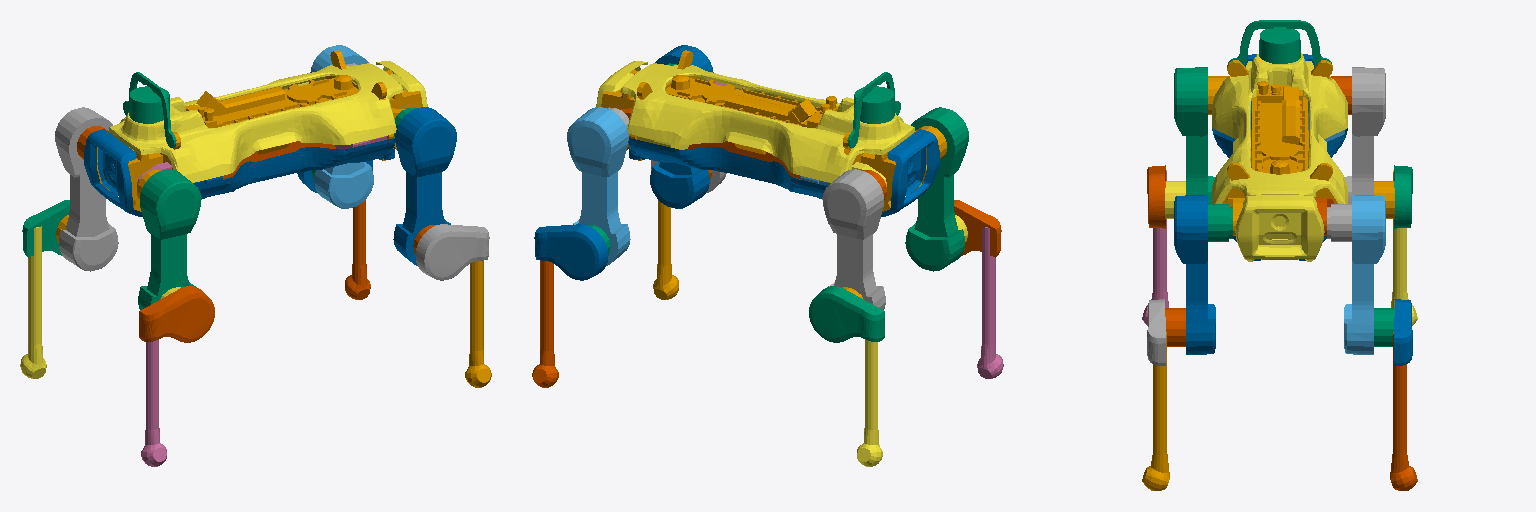
--- Render facts (derived) ---
3 views of the same robot in one strip: view 1: azimuth 30°, elevation 25°; view 2: azimuth 150°, elevation 25°; view 3: azimuth 270°, elevation 25° (orthographic).
Model anymal with 87 links and 86 joints (12 revolute, 74 fixed), rooted at base, posed every joint at zero.
Links seen in each view (by area): view 1: top_shell, base, RF_thigh_fixed, RH_thigh_fixed, LH_thigh_fixed, bottom_shell, RH_shank_fixed, RF_shank_fixed, face_shell_rear, LF_thigh_fixed, LH_FOOT, RF_FOOT (+6 smaller); view 2: top_shell, LF_thigh_fixed, base, LH_thigh_fixed, RH_thigh_fixed, bottom_shell, LH_shank_fixed, LF_shank_fixed, face_shell_rear, RF_thigh_fixed, RH_FOOT, LF_FOOT (+6 smaller); view 3: top_shell, base, face_shell_front, LF_thigh_fixed, RF_thigh_fixed, LH_thigh_fixed, RH_thigh_fixed, lidar, LF_FOOT, RF_FOOT, LF_shank_fixed, RF_shank_fixed (+9 smaller).
Link boxes in pixels (box(x1,y1,x2,y2)): top_shell: box(108, 63, 403, 182); base: box(97, 50, 422, 211); RF_thigh_fixed: box(393, 107, 456, 265); RH_thigh_fixed: box(138, 169, 201, 309); LH_thigh_fixed: box(55, 107, 118, 271); bottom_shell: box(196, 138, 395, 198); RH_shank_fixed: box(139, 286, 214, 342); RF_shank_fixed: box(415, 224, 489, 280); face_shell_rear: box(84, 129, 142, 216); LF_thigh_fixed: box(310, 45, 373, 208); LH_FOOT: box(20, 226, 46, 378); RF_FOOT: box(465, 260, 491, 387); top_shell: box(620, 63, 915, 182); LF_thigh_fixed: box(567, 107, 630, 265); base: box(601, 50, 926, 211); LH_thigh_fixed: box(822, 169, 885, 309); RH_thigh_fixed: box(905, 107, 968, 271); bottom_shell: box(628, 138, 827, 198); LH_shank_fixed: box(809, 286, 884, 342); LF_shank_fixed: box(534, 224, 608, 280); face_shell_rear: box(881, 129, 939, 216); RF_thigh_fixed: box(650, 45, 713, 208); RH_FOOT: box(977, 226, 1003, 378); LF_FOOT: box(532, 260, 558, 387); top_shell: box(1212, 53, 1347, 203); base: box(1222, 60, 1337, 203); face_shell_front: box(1235, 195, 1324, 261); LF_thigh_fixed: box(1344, 195, 1385, 354); RF_thigh_fixed: box(1174, 195, 1215, 354); LH_thigh_fixed: box(1345, 67, 1385, 203); RH_thigh_fixed: box(1174, 67, 1214, 203); lidar: box(1228, 20, 1331, 65); LF_FOOT: box(1390, 332, 1417, 490); RF_FOOT: box(1142, 332, 1169, 490); LF_shank_fixed: box(1394, 299, 1412, 365); RF_shank_fixed: box(1147, 299, 1165, 365).
Bounding box of the posed robot: 1.01 × 0.6804 × 0.9131 m (x, y, z).
37 mesh visuals loaded from 14 distinct referenced files (14 Collada DAE).

robot.urdf — anymal:
<?xml version="1.0" encoding="utf-8"?>
<!-- =================================================================================== -->
<!--   Copyright 2023 ANYbotics, https://www.anybotics.com                               -->
<!-- =================================================================================== -->
<!-- This file contains the description of the ANYmal robot. -->
<robot name="anymal">
  <link name="base">
    <visual>
      <origin rpy="0 0 0" xyz="0 0 0"/>
      <geometry>
        <mesh filename="../meshes/base.dae" scale="1.0 1.0 1.0"/>
      </geometry>
    </visual>
    <collision>
      <origin rpy="0 0 0" xyz="0 0 0.016"/>
      <geometry>
        <box size="0.894 0.1615 0.256"/>
      </geometry>
    </collision>
    <collision>
      <origin rpy="0 1.5707963267948966 0" xyz="0.23529999999999995 0.08075 0"/>
      <geometry>
        <cylinder length="0.1482" radius="0.089"/>
      </geometry>
    </collision>
    <collision>
      <origin rpy="0 1.5707963267948966 0" xyz="0.23529999999999995 -0.08075 0"/>
      <geometry>
        <cylinder length="0.1482" radius="0.089"/>
      </geometry>
    </collision>
    <collision>
      <origin rpy="0 1.5707963267948966 0" xyz="-0.23529999999999995 0.08075 0"/>
      <geometry>
        <cylinder length="0.1482" radius="0.089"/>
      </geometry>
    </collision>
    <collision>
      <origin rpy="0 1.5707963267948966 0" xyz="-0.23529999999999995 -0.08075 0"/>
      <geometry>
        <cylinder length="0.1482" radius="0.089"/>
      </geometry>
    </collision>
  </link>
  <joint name="base_to_base_inertia" type="fixed">
    <parent link="base"/>
    <child link="base_inertia"/>
    <origin rpy="0 0 0" xyz="0 0 0"/>
  </joint>
  <link name="base_inertia">
    <inertial>
      <origin rpy="0 0 0" xyz="-0.02148 0.00173 -0.04417"/>
      <mass value="8.27629"/>
      <inertia ixx="0.06185585085" ixy="0.00052357046" ixz="-0.02204886469" iyy="0.46467853407" iyz="0.00058724812" izz="0.47162119244"/>
    </inertial>
  </link>
  <joint name="base_to_body_top" type="fixed">
    <parent link="base"/>
    <child link="body_top"/>
    <origin rpy="0 0 0" xyz="0 0 0.144"/>
  </joint>
  <link name="body_top"/>
  <joint name="base_top_shell" type="fixed">
    <parent link="base"/>
    <child link="top_shell"/>
    <origin rpy="0 0 0" xyz="0 0 0"/>
  </joint>
  <link name="top_shell">
    <visual>
      <origin rpy="0 0 0" xyz="0 0 0"/>
      <geometry>
        <mesh filename="../meshes/top_shell.dae" scale="1.0 1.0 1.0"/>
      </geometry>
    </visual>
    <inertial>
      <origin rpy="0 0 0" xyz="-0.0226 -0.00027 0.07263"/>
      <mass value="0.32381"/>
      <inertia ixx="0.00391191516" ixy="-1.078994e-05" ixz="-0.00048832706" iyy="0.01761096758" iyz="4.45768e-06" izz="0.02086102766"/>
    </inertial>
  </link>
  <joint name="base_bottom_shell" type="fixed">
    <parent link="base"/>
    <child link="bottom_shell"/>
    <origin rpy="0 0 0" xyz="0 0 0"/>
  </joint>
  <link name="bottom_shell">
    <visual>
      <origin rpy="0 0 0" xyz="0 0 0"/>
      <geometry>
        <mesh filename="../meshes/bottom_shell.dae" scale="1.0 1.0 1.0"/>
      </geometry>
    </visual>
    <inertial>
      <origin rpy="0 0 0" xyz="9e-05 0.0 -0.0705"/>
      <mass value="0.73783"/>
      <inertia ixx="0.00724251946" ixy="8.94306e-06" ixz="7.96806e-05" iyy="0.03457730959" iyz="4.87e-09" izz="0.04075819312"/>
    </inertial>
  </link>
  <joint name="base_face_front" type="fixed">
    <parent link="base"/>
    <child link="face_front"/>
    <origin rpy="0 0 -0.0" xyz="0.4087 0 0.0205"/>
  </joint>
  <link name="face_front">
    <inertial>
      <origin rpy="0 0 0" xyz="-0.0362 0.00223 -0.02808"/>
      <mass value="0.48634"/>
      <inertia ixx="0.00077413444" ixy="1.55433e-06" ixz="6.243539e-05" iyy="0.00076586537" iyz="4.61106e-06" izz="0.00055588292"/>
    </inertial>
  </link>
  <joint name="face_front_to_depth_camera_front_lower_camera" type="fixed">
    <parent link="face_front"/>
    <child link="depth_camera_front_lower_camera"/>
    <origin rpy="0.0 1.0471975511965976 0" xyz="-0.04028 -0.025 -0.08051"/>
  </joint>
  <link name="depth_camera_front_lower_camera">
    <inertial>
      <origin rpy="0 0 0" xyz="-0.00362 -0.01787 -0.00011"/>
      <mass value="0.06355"/>
      <inertia ixx="6.841545e-05" ixy="1.46667e-06" ixz="4.115e-08" iyy="5.2817e-06" iyz="8.039e-08" izz="6.669787e-05"/>
    </inertial>
  </link>
  <joint name="depth_camera_front_lower_camera_to_camera_parent" type="fixed">
    <parent link="depth_camera_front_lower_camera"/>
    <child link="depth_camera_front_lower_camera_parent"/>
    <origin rpy="3.141592653589793 0.0 0.0" xyz="0.0 0.0 0.0"/>
  </joint>
  <link name="depth_camera_front_lower_camera_parent"/>
  <joint name="depth_camera_front_lower_camera_parent_to_depth_frame" type="fixed">
    <parent link="depth_camera_front_lower_camera_parent"/>
    <child link="depth_camera_front_lower_depth_frame"/>
    <origin rpy="0.0 0.0 0.0" xyz="0.0 0.0 0.0"/>
  </joint>
  <link name="depth_camera_front_lower_depth_frame"/>
  <joint name="depth_camera_front_lower_camera_depth_to_depth_optical_frame" type="fixed">
    <parent link="depth_camera_front_lower_depth_frame"/>
    <child link="depth_camera_front_lower_depth_optical_frame"/>
    <origin rpy="-1.5707963267948966 0.0 -1.5707963267948966" xyz="0.0 0.0 0.0"/>
  </joint>
  <link name="depth_camera_front_lower_depth_optical_frame"/>
  <joint name="face_front_to_depth_camera_front_upper_camera" type="fixed">
    <parent link="face_front"/>
    <child link="depth_camera_front_upper_camera"/>
    <origin rpy="0.0 0.2617993877991494 0" xyz="-0.00993 -0.025 -0.04096"/>
  </joint>
  <link name="depth_camera_front_upper_camera">
    <inertial>
      <origin rpy="0 0 0" xyz="-0.00362 -0.01787 -0.00011"/>
      <mass value="0.06355"/>
      <inertia ixx="6.841545e-05" ixy="1.46667e-06" ixz="4.115e-08" iyy="5.2817e-06" iyz="8.039e-08" izz="6.669787e-05"/>
    </inertial>
  </link>
  <joint name="depth_camera_front_upper_camera_to_camera_parent" type="fixed">
    <parent link="depth_camera_front_upper_camera"/>
    <child link="depth_camera_front_upper_camera_parent"/>
    <origin rpy="3.141592653589793 0.0 0.0" xyz="0.0 0.0 0.0"/>
  </joint>
  <link name="depth_camera_front_upper_camera_parent"/>
  <joint name="depth_camera_front_upper_camera_parent_to_depth_frame" type="fixed">
    <parent link="depth_camera_front_upper_camera_parent"/>
    <child link="depth_camera_front_upper_depth_frame"/>
    <origin rpy="0.0 0.0 0.0" xyz="0.0 0.0 0.0"/>
  </joint>
  <link name="depth_camera_front_upper_depth_frame"/>
  <joint name="depth_camera_front_upper_camera_depth_to_depth_optical_frame" type="fixed">
    <parent link="depth_camera_front_upper_depth_frame"/>
    <child link="depth_camera_front_upper_depth_optical_frame"/>
    <origin rpy="-1.5707963267948966 0.0 -1.5707963267948966" xyz="0.0 0.0 0.0"/>
  </joint>
  <link name="depth_camera_front_upper_depth_optical_frame"/>
  <joint name="face_front_to_wide_angle_camera_front_camera" type="fixed">
    <parent link="face_front"/>
    <child link="wide_angle_camera_front_camera"/>
    <origin rpy="0 0 0" xyz="0.0 0.0 0.0"/>
  </joint>
  <link name="wide_angle_camera_front_camera"/>
  <joint name="wide_angle_camera_front_camera_to_camera_parent" type="fixed">
    <parent link="wide_angle_camera_front_camera"/>
    <child link="wide_angle_camera_front_camera_parent"/>
    <origin rpy="-1.5707963267948966 0.0 -1.5707963267948966" xyz="-0.00421 0.0 0.0"/>
  </joint>
  <link name="wide_angle_camera_front_camera_parent"/>
  <joint name="base_face_rear" type="fixed">
    <parent link="base"/>
    <child link="face_rear"/>
    <origin rpy="0 0 3.141592653589793" xyz="-0.4087 0 0.0205"/>
  </joint>
  <link name="face_rear">
    <inertial>
      <origin rpy="0 0 0" xyz="-0.0362 0.00223 -0.02808"/>
      <mass value="0.48634"/>
      <inertia ixx="0.00077413444" ixy="1.55433e-06" ixz="6.243539e-05" iyy="0.00076586537" iyz="4.61106e-06" izz="0.00055588292"/>
    </inertial>
  </link>
  <joint name="face_rear_to_depth_camera_rear_lower_camera" type="fixed">
    <parent link="face_rear"/>
    <child link="depth_camera_rear_lower_camera"/>
    <origin rpy="0.0 1.0471975511965976 0" xyz="-0.04028 -0.025 -0.08051"/>
  </joint>
  <link name="depth_camera_rear_lower_camera">
    <inertial>
      <origin rpy="0 0 0" xyz="-0.00362 -0.01787 -0.00011"/>
      <mass value="0.06355"/>
      <inertia ixx="6.841545e-05" ixy="1.46667e-06" ixz="4.115e-08" iyy="5.2817e-06" iyz="8.039e-08" izz="6.669787e-05"/>
    </inertial>
  </link>
  <joint name="depth_camera_rear_lower_camera_to_camera_parent" type="fixed">
    <parent link="depth_camera_rear_lower_camera"/>
    <child link="depth_camera_rear_lower_camera_parent"/>
    <origin rpy="3.141592653589793 0.0 0.0" xyz="0.0 0.0 0.0"/>
  </joint>
  <link name="depth_camera_rear_lower_camera_parent"/>
  <joint name="depth_camera_rear_lower_camera_parent_to_depth_frame" type="fixed">
    <parent link="depth_camera_rear_lower_camera_parent"/>
    <child link="depth_camera_rear_lower_depth_frame"/>
    <origin rpy="0.0 0.0 0.0" xyz="0.0 0.0 0.0"/>
  </joint>
  <link name="depth_camera_rear_lower_depth_frame"/>
  <joint name="depth_camera_rear_lower_camera_depth_to_depth_optical_frame" type="fixed">
    <parent link="depth_camera_rear_lower_depth_frame"/>
    <child link="depth_camera_rear_lower_depth_optical_frame"/>
    <origin rpy="-1.5707963267948966 0.0 -1.5707963267948966" xyz="0.0 0.0 0.0"/>
  </joint>
  <link name="depth_camera_rear_lower_depth_optical_frame"/>
  <joint name="face_rear_to_depth_camera_rear_upper_camera" type="fixed">
    <parent link="face_rear"/>
    <child link="depth_camera_rear_upper_camera"/>
    <origin rpy="0.0 0.2617993877991494 0" xyz="-0.00993 -0.025 -0.04096"/>
  </joint>
  <link name="depth_camera_rear_upper_camera">
    <inertial>
      <origin rpy="0 0 0" xyz="-0.00362 -0.01787 -0.00011"/>
      <mass value="0.06355"/>
      <inertia ixx="6.841545e-05" ixy="1.46667e-06" ixz="4.115e-08" iyy="5.2817e-06" iyz="8.039e-08" izz="6.669787e-05"/>
    </inertial>
  </link>
  <joint name="depth_camera_rear_upper_camera_to_camera_parent" type="fixed">
    <parent link="depth_camera_rear_upper_camera"/>
    <child link="depth_camera_rear_upper_camera_parent"/>
    <origin rpy="3.141592653589793 0.0 0.0" xyz="0.0 0.0 0.0"/>
  </joint>
  <link name="depth_camera_rear_upper_camera_parent"/>
  <joint name="depth_camera_rear_upper_camera_parent_to_depth_frame" type="fixed">
    <parent link="depth_camera_rear_upper_camera_parent"/>
    <child link="depth_camera_rear_upper_depth_frame"/>
    <origin rpy="0.0 0.0 0.0" xyz="0.0 0.0 0.0"/>
  </joint>
  <link name="depth_camera_rear_upper_depth_frame"/>
  <joint name="depth_camera_rear_upper_camera_depth_to_depth_optical_frame" type="fixed">
    <parent link="depth_camera_rear_upper_depth_frame"/>
    <child link="depth_camera_rear_upper_depth_optical_frame"/>
    <origin rpy="-1.5707963267948966 0.0 -1.5707963267948966" xyz="0.0 0.0 0.0"/>
  </joint>
  <link name="depth_camera_rear_upper_depth_optical_frame"/>  <joint name="face_rear_to_wide_angle_camera_rear_camera" type="fixed">
    <parent link="face_rear"/>
    <child link="wide_angle_camera_rear_camera"/>
    <origin rpy="0 0 0" xyz="0.0 0.0 0.0"/>
  </joint>
  <link name="wide_angle_camera_rear_camera"/>
  <joint name="wide_angle_camera_rear_camera_to_camera_parent" type="fixed">
    <parent link="wide_angle_camera_rear_camera"/>
    <child link="wide_angle_camera_rear_camera_parent"/>
    <origin rpy="-1.5707963267948966 0.0 -1.5707963267948966" xyz="-0.00421 0.0 0.0"/>
  </joint>
  <link name="wide_angle_camera_rear_camera_parent"/>
  <joint name="base_face_shell_front" type="fixed">
    <parent link="face_front"/>
    <child link="face_shell_front"/>
    <origin rpy="0 0 0" xyz="0 0 0"/>
  </joint>
  <link name="face_shell_front">
    <visual>
      <origin rpy="0 0 0" xyz="0 0 0"/>
      <geometry>
        <mesh filename="../meshes/face_shell.dae" scale="1.0 1.0 1.0"/>
      </geometry>
    </visual>
    <inertial>
      <origin rpy="0 0 0" xyz="0.01446 4e-05 -0.01698"/>
      <mass value="0.1369"/>
      <inertia ixx="0.00102140404" ixy="9.54e-09" ixz="4.343039e-05" iyy="0.00051576362" iyz="2.7592e-07" izz="0.00057208503"/>
    </inertial>
  </link>
  <joint name="base_face_shell_rear" type="fixed">
    <parent link="face_rear"/>
    <child link="face_shell_rear"/>
    <origin rpy="0 0 0" xyz="0 0 0"/>
  </joint>
  <link name="face_shell_rear">
    <visual>
      <origin rpy="0 0 0" xyz="0 0 0"/>
      <geometry>
        <mesh filename="../meshes/face_shell.dae" scale="1.0 1.0 1.0"/>
      </geometry>
    </visual>
    <inertial>
      <origin rpy="0 0 0" xyz="0.01446 4e-05 -0.01698"/>
      <mass value="0.1369"/>
      <inertia ixx="0.00102140404" ixy="9.54e-09" ixz="4.343039e-05" iyy="0.00051576362" iyz="2.7592e-07" izz="0.00057208503"/>
    </inertial>
  </link>
  <joint name="base_battery" type="fixed">
    <parent link="base"/>
    <child link="battery"/>
    <origin rpy="0 0 0" xyz="0 0 0"/>
  </joint>
  <link name="battery">
    <visual>
      <origin rpy="0 0 0" xyz="0 0 0"/>
      <geometry>
        <mesh filename="../meshes/battery.dae" scale="1.0 1.0 1.0"/>
      </geometry>
    </visual>
    <inertial>
      <origin rpy="0 0 0" xyz="-0.00067 0.00023 -0.02212"/>
      <mass value="5.51206"/>
      <inertia ixx="0.00745533705" ixy="-0.00016412238" ixz="7.454512e-05" iyy="0.07199300212" iyz="-1.31605e-06" izz="0.07459357231"/>
    </inertial>
  </link>
  <joint name="base_to_docking_socket" type="fixed">
    <parent link="base"/>
    <child link="docking_socket"/>
    <origin rpy="0 0 0" xyz="0.26132 0.0 -0.06205"/>
  </joint>
  <link name="docking_socket">
    <visual>
      <origin rpy="0 0 0" xyz="0 0 0"/>
      <geometry>
        <mesh filename="../meshes/docking_socket.dae" scale="1.0 1.0 1.0"/>
      </geometry>
    </visual>
    <inertial>
      <origin rpy="0 0 0" xyz="0.00606 0.0 0.01903"/>
      <mass value="0.21905"/>
      <inertia ixx="0.00010664534" ixy="5.383e-08" ixz="4.91832e-06" iyy="0.00015585103" iyz="1.7942e-07" izz="0.00021982177"/>
    </inertial>
  </link>
  <joint name="base_hbc_receiver" type="fixed">
    <parent link="base"/>
    <child link="hbc_receiver"/>
    <origin rpy="0 0 0" xyz="-0.04350 0.0 0.14400"/>
  </joint>
  <link name="hbc_receiver">
    <inertial>
      <origin rpy="0 0 0" xyz="-0.00144 -0.00075 -0.01143"/>
      <mass value="0.60727"/>
      <inertia ixx="0.00172041475" ixy="2.466045e-05" ixz="1.95244e-06" iyy="0.00100683572" iyz="3.598867e-05" izz="0.00217149159"/>
    </inertial>
  </link>
  <link name="imu_link"/>
  <joint name="imu_joint" type="fixed">
    <parent link="base"/>
    <child link="imu_link"/>
    <origin rpy="3.141592653589793 0.0 3.141592653589793" xyz="-0.25565 0.00255 0.07672"/>
  </joint>
  <joint name="base_to_depth_camera_left_camera" type="fixed">
    <parent link="base"/>
    <child link="depth_camera_left_camera"/>
    <origin rpy="0.0 0.7330382858376184 1.5707963267948966" xyz="-0.02500 0.09230 0.01230"/>
  </joint>
  <link name="depth_camera_left_camera">
    <inertial>
      <origin rpy="0 0 0" xyz="-0.01352 -0.02667 -0.00198"/>
      <mass value="0.11196"/>
      <inertia ixx="0.00011356938" ixy="3.5285e-06" ixz="4.9332e-07" iyy="2.382311e-05" iyz="3.3737e-07" izz="0.00012178739"/>
    </inertial>
  </link>
  <joint name="depth_camera_left_camera_to_camera_parent" type="fixed">
    <parent link="depth_camera_left_camera"/>
    <child link="depth_camera_left_camera_parent"/>
    <origin rpy="0.0 0.0 0.0" xyz="0.0 0.0 0.0"/>
  </joint>
  <link name="depth_camera_left_camera_parent"/>
  <joint name="depth_camera_left_camera_parent_to_depth_frame" type="fixed">
    <parent link="depth_camera_left_camera_parent"/>
    <child link="depth_camera_left_depth_frame"/>
    <origin rpy="0.0 0.0 0.0" xyz="0.0 0.0 0.0"/>
  </joint>
  <link name="depth_camera_left_depth_frame"/>
  <joint name="depth_camera_left_camera_depth_to_depth_optical_frame" type="fixed">
    <parent link="depth_camera_left_depth_frame"/>
    <child link="depth_camera_left_depth_optical_frame"/>
    <origin rpy="-1.5707963267948966 0.0 -1.5707963267948966" xyz="0.0 0.0 0.0"/>
  </joint>
  <link name="depth_camera_left_depth_optical_frame"/>
  <joint name="base_to_depth_camera_right_camera" type="fixed">
    <parent link="base"/>
    <child link="depth_camera_right_camera"/>
    <origin rpy="0.0 0.7330382858376184 -1.5707963267948966" xyz="0.02500 -0.09230 0.01230"/>
  </joint>
  <link name="depth_camera_right_camera">
    <inertial>
      <origin rpy="0 0 0" xyz="-0.01352 -0.02667 -0.00198"/>
      <mass value="0.11196"/>
      <inertia ixx="0.00011356938" ixy="3.5285e-06" ixz="4.9332e-07" iyy="2.382311e-05" iyz="3.3737e-07" izz="0.00012178739"/>
    </inertial>
  </link>
  <joint name="depth_camera_right_camera_to_camera_parent" type="fixed">
    <parent link="depth_camera_right_camera"/>
    <child link="depth_camera_right_camera_parent"/>
    <origin rpy="0.0 0.0 0.0" xyz="0.0 0.0 0.0"/>
  </joint>
  <link name="depth_camera_right_camera_parent"/>
  <joint name="depth_camera_right_camera_parent_to_depth_frame" type="fixed">
    <parent link="depth_camera_right_camera_parent"/>
    <child link="depth_camera_right_depth_frame"/>
    <origin rpy="0.0 0.0 0.0" xyz="0.0 0.0 0.0"/>
  </joint>
  <link name="depth_camera_right_depth_frame"/>
  <joint name="depth_camera_right_camera_depth_to_depth_optical_frame" type="fixed">
    <parent link="depth_camera_right_depth_frame"/>
    <child link="depth_camera_right_depth_optical_frame"/>
    <origin rpy="-1.5707963267948966 0.0 -1.5707963267948966" xyz="0.0 0.0 0.0"/>
  </joint>
  <link name="depth_camera_right_depth_optical_frame"/>
  <joint name="base_to_lidar_parent" type="fixed">
    <parent link="base"/>
    <child link="lidar_parent"/>
    <origin rpy="0 0 1.5707963267948966" xyz="-0.310 0.0 0.1585"/>
  </joint>
      This accounts for the fact that the Lidar driver rotates the measurements 90 degrees in yaw -->
  <joint name="lidar_parent_to_lidar" type="fixed">
    <parent link="lidar_parent"/>
    <child link="lidar"/>
    <origin rpy="0 0 1.5707963267948966" xyz="0 0 0"/>
  </joint>
  <link name="lidar_parent"/>
  <link name="lidar">
    <visual>
      <origin xyz="0 0 0"/>
      <geometry>
        <mesh filename="../meshes/lidar.dae"/>
      </geometry>
    </visual>
    <visual>
      <origin xyz="0 0 0"/>
      <geometry>
        <mesh filename="../meshes/lidar_guard.dae"/>
      </geometry>
    </visual>
    <collision>
      <origin rpy="0 0 0" xyz="0 0 0"/>
      <geometry>
        <cylinder length="0.1355" radius="0.07"/>
      </geometry>
    </collision>
    <inertial>
      <origin rpy="0.0 0.0 0.0" xyz="-0.00371 -0.00326 -0.00485"/>
      <mass value="0.9017"/>
      <inertia ixx="0.00111563406" ixy="0.00012074344" ixz="0.00011445184" iyy="0.00114682455" iyz="0.00010431906" izz="0.00132807373"/>
    </inertial>
  </link>
  <joint name="base_LF_HAA_drive" type="fixed">
    <parent link="base"/>
    <child link="LF_HAA_drive"/>
    <origin rpy="0 0 0.0" xyz="0.304 0.109 0.0"/>
  </joint>
  <link name="LF_HAA_drive">
    <visual>
      <origin rpy="0 0 0" xyz="0 0 0"/>
      <geometry>
        <mesh filename="../meshes/drive.dae" scale="1.0 1.0 1.0"/>
      </geometry>
    </visual>
    <inertial>
      <origin rpy="0 0 0" xyz="-0.05783 -0.00014 0.00036"/>
      <mass value="2.01511"/>
      <inertia ixx="0.0033251482" ixy="2.567315e-05" ixz="2.599963e-05" iyy="0.00318377804" iyz="9.462185e-05" izz="0.00355095312"/>
    </inertial>
  </link>
  <joint name="LF_HAA" type="revolute">
    <parent link="LF_HAA_drive"/>
    <child link="LF_HIP"/>
    <origin rpy="0 0 0" xyz="0 0 0"/>
    <axis xyz="1 0 0"/>
    <limit command_effort="80.0" current="32.0" effort="80.0" gear_velocity="8.5" lower="-0.7853985" upper="0.6108655" velocity="8.5"/>
    <dynamics damping="0.0" friction="0.0"/>
  </joint>
  <link name="LF_HIP">
    <inertial>
      <origin rpy="0 0 0" xyz="0 0 0"/>
      <mass value="0.001"/>
      <inertia ixx="0.000001" ixy="0.0" ixz="0.0" iyy="0.000001" iyz="0.0" izz="0.000001"/>
    </inertial>
  </link>
  <joint name="LF_HIP_LF_hip_fixed" type="fixed">
    <parent link="LF_HIP"/>
    <child link="LF_hip_fixed"/>
    <origin rpy="0 0 0.0" xyz="0 0 0"/>
  </joint>
  <link name="LF_hip_fixed">
    <visual>
      <origin rpy="0.0 0 0.0" xyz="0 0 0"/>
      <geometry>
        <mesh filename="../meshes/hip.dae" scale="1.0 1.0 1.0"/>
      </geometry>
    </visual>
    <inertial>
      <origin rpy="0 0 0" xyz="0.03505 -0.00125 0.0"/>
      <mass value="0.36386"/>
      <inertia ixx="0.00023646957" ixy="3.45771e-06" ixz="1.268e-08" iyy="0.00055386457" iyz="1.811e-08" izz="0.00043888609"/>
    </inertial>
  </link>
  <joint name="LF_hip_fixed_LF_HFE_output" type="fixed">
    <parent link="LF_hip_fixed"/>
    <child link="LF_HFE_output"/>
    <origin rpy="0 0 -1.5707963267948966" xyz="0.069 0.006 0.0"/>
  </joint>
  <link name="LF_HFE_output">
    <inertial>
      <origin rpy="0 0 0" xyz="0 0 0"/>
      <mass value="0.001"/>
      <inertia ixx="0.000001" ixy="0.0" ixz="0.0" iyy="0.000001" iyz="0.0" izz="0.000001"/>
    </inertial>
  </link>
  <link name="LF_HFE_drive">
    <visual>
      <origin rpy="0 0 0" xyz="0 0 0"/>
      <geometry>
        <mesh filename="../meshes/drive.dae" scale="1.0 1.0 1.0"/>
      </geometry>
    </visual>
    <collision>
      <origin rpy="0 1.5707963267948966 0" xyz="-0.0595 0 0"/>
      <geometry>
        <cylinder length="0.119" radius="0.05375"/>
      </geometry>
    </collision>
    <inertial>
      <origin rpy="0 0 0" xyz="-0.05783 -0.00014 0.00036"/>
      <mass value="2.01511"/>
      <inertia ixx="0.0033251482" ixy="2.567315e-05" ixz="2.599963e-05" iyy="0.00318377804" iyz="9.462185e-05" izz="0.00355095312"/>
    </inertial>
  </link>
  <joint name="LF_HFE" type="revolute">
    <parent link="LF_HFE_output"/>
    <child link="LF_THIGH"/>
    <origin rpy="0 0 0" xyz="0 0 0"/>
    <axis xyz="-1 0 0"/>
    <limit command_effort="80.0" current="32.0" effort="80.0" gear_velocity="8.5" lower="-9.42477796076938" upper="9.42477796076938" velocity="8.5"/>
    <dynamics damping="0.0" friction="0.0"/>
  </joint>
  <link name="LF_THIGH">
    <inertial>
      <origin rpy="0 0 0" xyz="0 0 0"/>
      <mass value="0.001"/>
      <inertia ixx="0.000001" ixy="0.0" ixz="0.0" iyy="0.000001" iyz="0.0" izz="0.000001"/>
    </inertial>
  </link>
  <joint name="LF_THIGH_to_LF_HFE_drive" type="fixed">
    <parent link="LF_THIGH"/>
    <child link="LF_HFE_drive"/>
    <origin rpy="0 0 0" xyz="0 0 0"/>
  </joint>
  <joint name="LF_HFE_drive_LF_thigh_fixed" type="fixed">
    <parent link="LF_HFE_drive"/>
    <child link="LF_thigh_fixed"/>
    <origin rpy="0 0 1.5707963267948966" xyz="0 0 0"/>
  </joint>
  <link name="LF_thigh_fixed">
    <visual>
      <origin rpy="0 0 0.0" xyz="0 0 0"/>
      <geometry>
        <mesh filename="../meshes/thigh.dae" scale="1.0 1.0 1.0"/>
      </geometry>
    </visual>
        <collision>
      <origin rpy="1.5707963267948966 0 0" xyz="0 0.10519500000000001 0"/>
      <geometry>
        <cylinder length="0.08313000000000001" radius="0.07"/>
      </geometry>
    </collision>
    <collision>
      <origin rpy="0 0 0" xyz="0 0.09513 -0.1425"/>
      <geometry>
        <box size="0.093 0.063 0.285"/>
      </geometry>
    </collision>
    <collision>
      <origin rpy="1.5707963267948966 0 0" xyz="0 0.08506500000000002 -0.285"/>
      <geometry>
        <cylinder length="0.08313000000000001" radius="0.07"/>
      </geometry>
    </collision>
    <inertial>
      <origin rpy="0 0 0" xyz="-0.00041 0.09155 -0.13317"/>
      <mass value="1.10098"/>
      <inertia ixx="0.01541669135" ixy="0.00021116021" ixz="0.00031942961" iyy="0.01630081575" iyz="0.00143783119" izz="0.00258410631"/>
    </inertial>
  </link>
  <joint name="LF_thigh_fixed_LF_KFE_drive" type="fixed">
    <parent link="LF_thigh_fixed"/>
    <child link="LF_KFE_drive"/>
    <origin rpy="0 0 1.5707963267948966" xyz="0.0 0.1805 -0.285"/>
  </joint>
  <link name="LF_KFE_drive">
    <visual>
      <origin rpy="0 0 0" xyz="0 0 0"/>
      <geometry>
        <mesh filename="../meshes/drive.dae" scale="1.0 1.0 1.0"/>
      </geometry>
    </visual>
    <collision>
      <origin rpy="0 1.5707963267948966 0" xyz="-0.0595 0 0"/>
      <geometry>
        <cylinder length="0.119" radius="0.05375"/>
      </geometry>
    </collision>
    <inertial>
      <origin rpy="0 0 0" xyz="-0.05783 -0.00014 0.00036"/>
      <mass value="2.01511"/>
      <inertia ixx="0.0033251482" ixy="2.567315e-05" ixz="2.599963e-05" iyy="0.00318377804" iyz="9.462185e-05" izz="0.00355095312"/>
    </inertial>
  </link>
  <joint name="LF_KFE" type="revolute">
    <parent link="LF_KFE_drive"/>
    <child link="LF_SHANK"/>
    <origin rpy="0 0 0" xyz="0 0 0"/>
    <axis xyz="1 0 0"/>
    <limit command_effort="80.0" current="32.0" effort="80.0" gear_velocity="8.5" lower="-9.42477796076938" upper="9.42477796076938" velocity="8.5"/>
    <dynamics damping="0.0" friction="0.0"/>
  </joint>
  <link name="LF_SHANK">
    <inertial>
      <origin rpy="0 0 0" xyz="0 0 0"/>
      <mass value="0.001"/>
      <inertia ixx="0.000001" ixy="0.0" ixz="0.0" iyy="0.000001" iyz="0.0" izz="0.000001"/>
    </inertial>
  </link>
  <joint name="LF_shank_LF_shank_fixed" type="fixed">
    <parent link="LF_SHANK"/>
    <child link="LF_shank_fixed"/>
    <origin rpy="0 0 -1.5707963267948966" xyz="0 0 0"/>
  </joint>
  <link name="LF_shank_fixed">
    <visual>
      <origin rpy="0 0 0.0" xyz="0 0 0"/>
      <geometry>
        <mesh filename="../meshes/shank_l.dae" scale="1.0 1.0 1.0"/>
      </geometry>
    </visual>
        <collision>
      <origin rpy="1.5707963267948966 0 0" xyz="0 0 0"/>
      <geometry>
        <cylinder length="0.05732" radius="0.071"/>
      </geometry>
    </collision>
    <collision>
      <origin rpy="1.5707963267948966 0 0" xyz="0.066415 0 0"/>
      <geometry>
        <box size="0.13283 0.08302 0.05732"/>
      </geometry>
    </collision>
    <inertial>
      <origin rpy="0 0 0" xyz="0.02186 0.00895 0.00042"/>
      <mass value="0.49854"/>
      <inertia ixx="0.00054939614" ixy="2.147115e-05" ixz="1.687902e-05" iyy="0.00166971314" iyz="1.71584e-06" izz="0.00127258622"/>
    </inertial>
  </link>
  <joint name="LF_shank_fixed_LF_FOOT" type="fixed" dont_collapse="true">
    <parent link="LF_shank_fixed"/>
    <child link="LF_FOOT"/>
    <origin rpy="0 0 0" xyz="0.1 0.02225 -0.39246"/>
  </joint>
  <link name="LF_FOOT">
    <visual>
      <origin rpy="0 0 0.0" xyz="0 0 0"/>
      <geometry>
        <mesh filename="../meshes/foot.dae" scale="1.0 1.0 1.0"/>
      </geometry>
    </visual>
        <collision>
      <origin rpy="0 0 0" xyz="0 -0.016891153063699788 0.22824319686592265"/>
      <geometry>
        <cylinder length="0.39572" radius="0.0175"/>
      </geometry>
    </collision>
        <collision>
      <origin xyz="0 -0.008141153063699788 0.03038319686592264"/>
      <geometry>
        <sphere radius="0.031455"/>
      </geometry>
    </collision>
    <inertial>
      <origin rpy="0 0 0" xyz="0.0 -0.01559 0.15004"/>
      <mass value="0.29644"/>
      <inertia ixx="0.00514263169" ixy="1.46e-09" ixz="6.85e-09" iyy="0.0051315957" iyz="0.00016323086" izz="0.00011890148"/>
    </inertial>
  </link>
  <joint name="base_RF_HAA_drive" type="fixed">
    <parent link="base"/>
    <child link="RF_HAA_drive"/>
    <origin rpy="0 0 0.0" xyz="0.304 -0.109 0.0"/>
  </joint>
  <link name="RF_HAA_drive">
    <visual>
      <origin rpy="0 0 0" xyz="0 0 0"/>
      <geometry>
        <mesh filename="../meshes/drive.dae" scale="1.0 1.0 1.0"/>
      </geometry>
    </visual>
    <inertial>
      <origin rpy="0 0 0" xyz="-0.05783 -0.00014 0.00036"/>
      <mass value="2.01511"/>
      <inertia ixx="0.0033251482" ixy="2.567315e-05" ixz="2.599963e-05" iyy="0.00318377804" iyz="9.462185e-05" izz="0.00355095312"/>
    </inertial>
  </link>
  <joint name="RF_HAA" type="revolute">
    <parent link="RF_HAA_drive"/>
    <child link="RF_HIP"/>
    <origin rpy="0 0 0" xyz="0 0 0"/>
    <axis xyz="1 0 0"/>
    <limit command_effort="80.0" current="32.0" effort="80.0" gear_velocity="8.5" lower="-0.6108655" upper="0.7853985" velocity="8.5"/>
    <dynamics damping="0.0" friction="0.0"/>
  </joint>
  <link name="RF_HIP">
    <inertial>
      <origin rpy="0 0 0" xyz="0 0 0"/>
      <mass value="0.001"/>
      <inertia ixx="0.000001" ixy="0.0" ixz="0.0" iyy="0.000001" iyz="0.0" izz="0.000001"/>
    </inertial>
  </link>
  <joint name="RF_HIP_RF_hip_fixed" type="fixed">
    <parent link="RF_HIP"/>
    <child link="RF_hip_fixed"/>
    <origin rpy="0 0 0.0" xyz="0 0 0"/>
  </joint>
  <link name="RF_hip_fixed">
    <visual>
      <origin rpy="-3.141592653589793 0 0.0" xyz="0 0 0"/>
      <geometry>
        <mesh filename="../meshes/hip.dae" scale="1.0 1.0 1.0"/>
      </geometry>
    </visual>
    <inertial>
      <origin rpy="0 0 0" xyz="0.03505 0.00125 0.0"/>
      <mass value="0.36386"/>
      <inertia ixx="0.00023646957" ixy="-3.45771e-06" ixz="1.268e-08" iyy="0.00055386457" iyz="-1.811e-08" izz="0.00043888609"/>
    </inertial>
  </link>
  <joint name="RF_hip_fixed_RF_HFE_output" type="fixed">
    <parent link="RF_hip_fixed"/>
    <child link="RF_HFE_output"/>
    <origin rpy="0 0 1.5707963267948966" xyz="0.069 -0.006 0.0"/>
  </joint>
  <link name="RF_HFE_output">
    <inertial>
      <origin rpy="0 0 0" xyz="0 0 0"/>
      <mass value="0.001"/>
      <inertia ixx="0.000001" ixy="0.0" ixz="0.0" iyy="0.000001" iyz="0.0" izz="0.000001"/>
    </inertial>
  </link>
  <link name="RF_HFE_drive">
    <visual>
      <origin rpy="0 0 0" xyz="0 0 0"/>
      <geometry>
        <mesh filename="../meshes/drive.dae" scale="1.0 1.0 1.0"/>
      </geometry>
    </visual>
    <collision>
      <origin rpy="0 1.5707963267948966 0" xyz="-0.0595 0 0"/>
      <geometry>
        <cylinder length="0.119" radius="0.05375"/>
      </geometry>
    </collision>
    <inertial>
      <origin rpy="0 0 0" xyz="-0.05783 -0.00014 0.00036"/>
      <mass value="2.01511"/>
      <inertia ixx="0.0033251482" ixy="2.567315e-05" ixz="2.599963e-05" iyy="0.00318377804" iyz="9.462185e-05" izz="0.00355095312"/>
    </inertial>
  </link>
  <joint name="RF_HFE" type="revolute">
    <parent link="RF_HFE_output"/>
    <child link="RF_THIGH"/>
    <origin rpy="0 0 0" xyz="0 0 0"/>
    <axis xyz="1 0 0"/>
    <limit command_effort="80.0" current="32.0" effort="80.0" gear_velocity="8.5" lower="-9.42477796076938" upper="9.42477796076938" velocity="8.5"/>
    <dynamics damping="0.0" friction="0.0"/>
  </joint>
  <link name="RF_THIGH">
    <inertial>
      <origin rpy="0 0 0" xyz="0 0 0"/>
      <mass value="0.001"/>
      <inertia ixx="0.000001" ixy="0.0" ixz="0.0" iyy="0.000001" iyz="0.0" izz="0.000001"/>
    </inertial>
  </link>
  <joint name="RF_THIGH_to_RF_HFE_drive" type="fixed">
    <parent link="RF_THIGH"/>
    <child link="RF_HFE_drive"/>
    <origin rpy="0 0 0" xyz="0 0 0"/>
  </joint>
  <joint name="RF_HFE_drive_RF_thigh_fixed" type="fixed">
    <parent link="RF_HFE_drive"/>
    <child link="RF_thigh_fixed"/>
    <origin rpy="0 0 -1.5707963267948966" xyz="0 0 0"/>
  </joint>
  <link name="RF_thigh_fixed">
    <visual>
      <origin rpy="0 0 -3.141592653589793" xyz="0 0 0"/>
      <geometry>
        <mesh filename="../meshes/thigh.dae" scale="1.0 1.0 1.0"/>
      </geometry>
    </visual>
        <collision>
      <origin rpy="1.5707963267948966 0 0" xyz="0 -0.10519500000000001 0"/>
      <geometry>
        <cylinder length="0.08313000000000001" radius="0.07"/>
      </geometry>
    </collision>
    <collision>
      <origin rpy="0 0 0" xyz="0 -0.09513 -0.1425"/>
      <geometry>
        <box size="0.093 0.063 0.285"/>
      </geometry>
    </collision>
    <collision>
      <origin rpy="1.5707963267948966 0 0" xyz="0 -0.08506500000000002 -0.285"/>
      <geometry>
        <cylinder length="0.08313000000000001" radius="0.07"/>
      </geometry>
    </collision>
    <inertial>
      <origin rpy="0 0 0" xyz="-0.00041 -0.09155 -0.13317"/>
      <mass value="1.10098"/>
      <inertia ixx="0.01541669135" ixy="-0.00021116021" ixz="0.00031942961" iyy="0.01630081575" iyz="-0.00143783119" izz="0.00258410631"/>
    </inertial>
  </link>
  <joint name="RF_thigh_fixed_RF_KFE_drive" type="fixed">
    <parent link="RF_thigh_fixed"/>
    <child link="RF_KFE_drive"/>
    <origin rpy="0 0 -1.5707963267948966" xyz="0.0 -0.1805 -0.285"/>
  </joint>
  <link name="RF_KFE_drive">
    <visual>
      <origin rpy="0 0 0" xyz="0 0 0"/>
      <geometry>
        <mesh filename="../meshes/drive.dae" scale="1.0 1.0 1.0"/>
      </geometry>
    </visual>
    <collision>
      <origin rpy="0 1.5707963267948966 0" xyz="-0.0595 0 0"/>
      <geometry>
        <cylinder length="0.119" radius="0.05375"/>
      </geometry>
    </collision>
    <inertial>
      <origin rpy="0 0 0" xyz="-0.05783 -0.00014 0.00036"/>
      <mass value="2.01511"/>
      <inertia ixx="0.0033251482" ixy="2.567315e-05" ixz="2.599963e-05" iyy="0.00318377804" iyz="9.462185e-05" izz="0.00355095312"/>
    </inertial>
  </link>
  <joint name="RF_KFE" type="revolute">
    <parent link="RF_KFE_drive"/>
    <child link="RF_SHANK"/>
    <origin rpy="0 0 0" xyz="0 0 0"/>
    <axis xyz="-1 0 0"/>
    <limit command_effort="80.0" current="32.0" effort="80.0" gear_velocity="8.5" lower="-9.42477796076938" upper="9.42477796076938" velocity="8.5"/>
    <dynamics damping="0.0" friction="0.0"/>
  </joint>
  <link name="RF_SHANK">
    <inertial>
      <origin rpy="0 0 0" xyz="0 0 0"/>
      <mass value="0.001"/>
      <inertia ixx="0.000001" ixy="0.0" ixz="0.0" iyy="0.000001" iyz="0.0" izz="0.000001"/>
    </inertial>
  </link>
  <joint name="RF_shank_RF_shank_fixed" type="fixed">
    <parent link="RF_SHANK"/>
    <child link="RF_shank_fixed"/>
    <origin rpy="0 0 1.5707963267948966" xyz="0 0 0"/>
  </joint>
  <link name="RF_shank_fixed">
    <visual>
      <origin rpy="0 0 0.0" xyz="0 0 0"/>
      <geometry>
        <mesh filename="../meshes/shank_r.dae" scale="1.0 1.0 1.0"/>
      </geometry>
    </visual>
        <collision>
      <origin rpy="1.5707963267948966 0 0" xyz="0 0 0"/>
      <geometry>
        <cylinder length="0.05732" radius="0.071"/>
      </geometry>
    </collision>
    <collision>
      <origin rpy="1.5707963267948966 0 0" xyz="0.066415 0 0"/>
      <geometry>
        <box size="0.13283 0.08302 0.05732"/>
      </geometry>
    </collision>
    <inertial>
      <origin rpy="0 0 0" xyz="0.02186 -0.00895 0.00042"/>
      <mass value="0.49854"/>
      <inertia ixx="0.00054939614" ixy="-2.147115e-05" ixz="1.687902e-05" iyy="0.00166971314" iyz="-1.71584e-06" izz="0.00127258622"/>
    </inertial>
  </link>
  <joint name="RF_shank_fixed_RF_FOOT" type="fixed" dont_collapse="true">
    <parent link="RF_shank_fixed"/>
    <child link="RF_FOOT"/>
    <origin rpy="0 0 0" xyz="0.1 -0.02225 -0.39246"/>
  </joint>
  <link name="RF_FOOT">
    <visual>
      <origin rpy="0 0 -3.141592653589793" xyz="0 0 0"/>
      <geometry>
        <mesh filename="../meshes/foot.dae" scale="1.0 1.0 1.0"/>
      </geometry>
    </visual>
        <collision>
      <origin rpy="0 0 0" xyz="0 0.016891153063699788 0.22824319686592265"/>
      <geometry>
        <cylinder length="0.39572" radius="0.0175"/>
      </geometry>
    </collision>
        <collision>
      <origin xyz="0 0.008141153063699788 0.03038319686592264"/>
      <geometry>
        <sphere radius="0.031455"/>
      </geometry>
    </collision>
    <inertial>
      <origin rpy="0 0 0" xyz="0.0 0.01559 0.15004"/>
      <mass value="0.29644"/>
      <inertia ixx="0.00514263169" ixy="-1.46e-09" ixz="6.85e-09" iyy="0.0051315957" iyz="-0.00016323086" izz="0.00011890148"/>
    </inertial>
  </link>
  <joint name="base_LH_HAA_drive" type="fixed">
    <parent link="base"/>
    <child link="LH_HAA_drive"/>
    <origin rpy="0 0 -3.141592653589793" xyz="-0.304 0.109 0.0"/>
  </joint>
  <link name="LH_HAA_drive">
    <visual>
      <origin rpy="0 0 0" xyz="0 0 0"/>
      <geometry>
        <mesh filename="../meshes/drive.dae" scale="1.0 1.0 1.0"/>
      </geometry>
    </visual>
    <inertial>
      <origin rpy="0 0 0" xyz="-0.05783 -0.00014 0.00036"/>
      <mass value="2.01511"/>
      <inertia ixx="0.0033251482" ixy="2.567315e-05" ixz="2.599963e-05" iyy="0.00318377804" iyz="9.462185e-05" izz="0.00355095312"/>
    </inertial>
  </link>
  <joint name="LH_HAA" type="revolute">
    <parent link="LH_HAA_drive"/>
    <child link="LH_HIP"/>
    <origin rpy="0 0 0" xyz="0 0 0"/>
    <axis xyz="-1 0 0"/>
    <limit command_effort="80.0" current="32.0" effort="80.0" gear_velocity="8.5" lower="-0.7853985" upper="0.6108655" velocity="8.5"/>
    <dynamics damping="0.0" friction="0.0"/>
  </joint>
  <link name="LH_HIP">
    <inertial>
      <origin rpy="0 0 0" xyz="0 0 0"/>
      <mass value="0.001"/>
      <inertia ixx="0.000001" ixy="0.0" ixz="0.0" iyy="0.000001" iyz="0.0" izz="0.000001"/>
    </inertial>
  </link>
  <joint name="LH_HIP_LH_hip_fixed" type="fixed">
    <parent link="LH_HIP"/>
    <child link="LH_hip_fixed"/>
    <origin rpy="0 0 -3.141592653589793" xyz="0 0 0"/>
  </joint>
  <link name="LH_hip_fixed">
    <visual>
      <origin rpy="-3.141592653589793 0 -3.141592653589793" xyz="0 0 0"/>
      <geometry>
        <mesh filename="../meshes/hip.dae" scale="1.0 1.0 1.0"/>
      </geometry>
    </visual>
    <inertial>
      <origin rpy="0 0 0" xyz="-0.03505 -0.00125 0.0"/>
      <mass value="0.36386"/>
      <inertia ixx="0.00023646957" ixy="-3.45771e-06" ixz="-1.268e-08" iyy="0.00055386457" iyz="1.811e-08" izz="0.00043888609"/>
    </inertial>
  </link>
  <joint name="LH_hip_fixed_LH_HFE_output" type="fixed">
    <parent link="LH_hip_fixed"/>
    <child link="LH_HFE_output"/>
    <origin rpy="0 0 -1.5707963267948966" xyz="-0.069 0.006 0.0"/>
  </joint>
  <link name="LH_HFE_output">
    <inertial>
      <origin rpy="0 0 0" xyz="0 0 0"/>
      <mass value="0.001"/>
      <inertia ixx="0.000001" ixy="0.0" ixz="0.0" iyy="0.000001" iyz="0.0" izz="0.000001"/>
    </inertial>
  </link>
  <link name="LH_HFE_drive">
    <visual>
      <origin rpy="0 0 0" xyz="0 0 0"/>
      <geometry>
        <mesh filename="../meshes/drive.dae" scale="1.0 1.0 1.0"/>
      </geometry>
    </visual>
    <collision>
      <origin rpy="0 1.5707963267948966 0" xyz="-0.0595 0 0"/>
      <geometry>
        <cylinder length="0.119" radius="0.05375"/>
      </geometry>
    </collision>
    <inertial>
      <origin rpy="0 0 0" xyz="-0.05783 -0.00014 0.00036"/>
      <mass value="2.01511"/>
      <inertia ixx="0.0033251482" ixy="2.567315e-05" ixz="2.599963e-05" iyy="0.00318377804" iyz="9.462185e-05" izz="0.00355095312"/>
    </inertial>
  </link>
  <joint name="LH_HFE" type="revolute">
    <parent link="LH_HFE_output"/>
    <child link="LH_THIGH"/>
    <origin rpy="0 0 0" xyz="0 0 0"/>
    <axis xyz="-1 0 0"/>
    <limit command_effort="80.0" current="32.0" effort="80.0" gear_velocity="8.5" lower="-9.42477796076938" upper="9.42477796076938" velocity="8.5"/>
    <dynamics damping="0.0" friction="0.0"/>
  </joint>
  <link name="LH_THIGH">
    <inertial>
      <origin rpy="0 0 0" xyz="0 0 0"/>
      <mass value="0.001"/>
      <inertia ixx="0.000001" ixy="0.0" ixz="0.0" iyy="0.000001" iyz="0.0" izz="0.000001"/>
    </inertial>
  </link>
  <joint name="LH_THIGH_to_LH_HFE_drive" type="fixed">
    <parent link="LH_THIGH"/>
    <child link="LH_HFE_drive"/>
    <origin rpy="0 0 0" xyz="0 0 0"/>
  </joint>
  <joint name="LH_HFE_drive_LH_thigh_fixed" type="fixed">
    <parent link="LH_HFE_drive"/>
    <child link="LH_thigh_fixed"/>
    <origin rpy="0 0 1.5707963267948966" xyz="0 0 0"/>
  </joint>
  <link name="LH_thigh_fixed">
    <visual>
      <origin rpy="0 0 0.0" xyz="0 0 0"/>
      <geometry>
        <mesh filename="../meshes/thigh.dae" scale="1.0 1.0 1.0"/>
      </geometry>
    </visual>
        <collision>
      <origin rpy="1.5707963267948966 0 0" xyz="0 0.10519500000000001 0"/>
      <geometry>
        <cylinder length="0.08313000000000001" radius="0.07"/>
      </geometry>
    </collision>
    <collision>
      <origin rpy="0 0 0" xyz="0 0.09513 -0.1425"/>
      <geometry>
        <box size="0.093 0.063 0.285"/>
      </geometry>
    </collision>
    <collision>
      <origin rpy="1.5707963267948966 0 0" xyz="0 0.08506500000000002 -0.285"/>
      <geometry>
        <cylinder length="0.08313000000000001" radius="0.07"/>
      </geometry>
    </collision>
    <inertial>
      <origin rpy="0 0 0" xyz="0.00041 0.09155 -0.13317"/>
      <mass value="1.10098"/>
      <inertia ixx="0.01541669135" ixy="-0.00021116021" ixz="-0.00031942961" iyy="0.01630081575" iyz="0.00143783119" izz="0.00258410631"/>
    </inertial>
  </link>
  <joint name="LH_thigh_fixed_LH_KFE_drive" type="fixed">
    <parent link="LH_thigh_fixed"/>
    <child link="LH_KFE_drive"/>
    <origin rpy="0 0 1.5707963267948966" xyz="-0.0 0.1805 -0.285"/>
  </joint>
  <link name="LH_KFE_drive">
    <visual>
      <origin rpy="0 0 0" xyz="0 0 0"/>
      <geometry>
        <mesh filename="../meshes/drive.dae" scale="1.0 1.0 1.0"/>
      </geometry>
    </visual>
    <collision>
      <origin rpy="0 1.5707963267948966 0" xyz="-0.0595 0 0"/>
      <geometry>
        <cylinder length="0.119" radius="0.05375"/>
      </geometry>
    </collision>
    <inertial>
      <origin rpy="0 0 0" xyz="-0.05783 -0.00014 0.00036"/>
      <mass value="2.01511"/>
      <inertia ixx="0.0033251482" ixy="2.567315e-05" ixz="2.599963e-05" iyy="0.00318377804" iyz="9.462185e-05" izz="0.00355095312"/>
    </inertial>
  </link>
  <joint name="LH_KFE" type="revolute">
    <parent link="LH_KFE_drive"/>
    <child link="LH_SHANK"/>
    <origin rpy="0 0 0" xyz="0 0 0"/>
    <axis xyz="1 0 0"/>
    <limit command_effort="80.0" current="32.0" effort="80.0" gear_velocity="8.5" lower="-9.42477796076938" upper="9.42477796076938" velocity="8.5"/>
    <dynamics damping="0.0" friction="0.0"/>
  </joint>
  <link name="LH_SHANK">
    <inertial>
      <origin rpy="0 0 0" xyz="0 0 0"/>
      <mass value="0.001"/>
      <inertia ixx="0.000001" ixy="0.0" ixz="0.0" iyy="0.000001" iyz="0.0" izz="0.000001"/>
    </inertial>
  </link>
  <joint name="LH_shank_LH_shank_fixed" type="fixed">
    <parent link="LH_SHANK"/>
    <child link="LH_shank_fixed"/>
    <origin rpy="0 0 -1.5707963267948966" xyz="0 0 0"/>
  </joint>
  <link name="LH_shank_fixed">
    <visual>
      <origin rpy="0 0 -3.141592653589793" xyz="0 0 0"/>
      <geometry>
        <mesh filename="../meshes/shank_r.dae" scale="1.0 1.0 1.0"/>
      </geometry>
    </visual>
        <collision>
      <origin rpy="1.5707963267948966 0 0" xyz="0 0 0"/>
      <geometry>
        <cylinder length="0.05732" radius="0.071"/>
      </geometry>
    </collision>
    <collision>
      <origin rpy="1.5707963267948966 0 0" xyz="-0.066415 0 0"/>
      <geometry>
        <box size="0.13283 0.08302 0.05732"/>
      </geometry>
    </collision>
    <inertial>
      <origin rpy="0 0 0" xyz="-0.02186 0.00895 0.00042"/>
      <mass value="0.49854"/>
      <inertia ixx="0.00054939614" ixy="-2.147115e-05" ixz="-1.687902e-05" iyy="0.00166971314" iyz="1.71584e-06" izz="0.00127258622"/>
    </inertial>
  </link>
  <joint name="LH_shank_fixed_LH_FOOT" type="fixed" dont_collapse="true">
    <parent link="LH_shank_fixed"/>
    <child link="LH_FOOT"/>
    <origin rpy="0 0 0" xyz="-0.1 0.02225 -0.39246"/>
  </joint>
  <link name="LH_FOOT">
    <visual>
      <origin rpy="0 0 0.0" xyz="0 0 0"/>
      <geometry>
        <mesh filename="../meshes/foot.dae" scale="1.0 1.0 1.0"/>
      </geometry>
    </visual>
        <collision>
      <origin rpy="0 0 0" xyz="0 -0.016891153063699788 0.22824319686592265"/>
      <geometry>
        <cylinder length="0.39572" radius="0.0175"/>
      </geometry>
    </collision>
        <collision>
      <origin xyz="0 -0.008141153063699788 0.03038319686592264"/>
      <geometry>
        <sphere radius="0.031455"/>
      </geometry>
    </collision>
    <inertial>
      <origin rpy="0 0 0" xyz="-0.0 -0.01559 0.15004"/>
      <mass value="0.29644"/>
      <inertia ixx="0.00514263169" ixy="-1.46e-09" ixz="-6.85e-09" iyy="0.0051315957" iyz="0.00016323086" izz="0.00011890148"/>
    </inertial>
  </link>
  <joint name="base_RH_HAA_drive" type="fixed">
    <parent link="base"/>
    <child link="RH_HAA_drive"/>
    <origin rpy="0 0 -3.141592653589793" xyz="-0.304 -0.109 0.0"/>
  </joint>
  <link name="RH_HAA_drive">
    <visual>
      <origin rpy="0 0 0" xyz="0 0 0"/>
      <geometry>
        <mesh filename="../meshes/drive.dae" scale="1.0 1.0 1.0"/>
      </geometry>
    </visual>
    <inertial>
      <origin rpy="0 0 0" xyz="-0.05783 -0.00014 0.00036"/>
      <mass value="2.01511"/>
      <inertia ixx="0.0033251482" ixy="2.567315e-05" ixz="2.599963e-05" iyy="0.00318377804" iyz="9.462185e-05" izz="0.00355095312"/>
    </inertial>
  </link>
  <joint name="RH_HAA" type="revolute">
    <parent link="RH_HAA_drive"/>
    <child link="RH_HIP"/>
    <origin rpy="0 0 0" xyz="0 0 0"/>
    <axis xyz="-1 0 0"/>
    <limit command_effort="80.0" current="32.0" effort="80.0" gear_velocity="8.5" lower="-0.6108655" upper="0.7853985" velocity="8.5"/>
    <dynamics damping="0.0" friction="0.0"/>
  </joint>
  <link name="RH_HIP">
    <inertial>
      <origin rpy="0 0 0" xyz="0 0 0"/>
      <mass value="0.001"/>
      <inertia ixx="0.000001" ixy="0.0" ixz="0.0" iyy="0.000001" iyz="0.0" izz="0.000001"/>
    </inertial>
  </link>
  <joint name="RH_HIP_RH_hip_fixed" type="fixed">
    <parent link="RH_HIP"/>
    <child link="RH_hip_fixed"/>
    <origin rpy="0 0 -3.141592653589793" xyz="0 0 0"/>
  </joint>
  <link name="RH_hip_fixed">
    <visual>
      <origin rpy="0.0 0 -3.141592653589793" xyz="0 0 0"/>
      <geometry>
        <mesh filename="../meshes/hip.dae" scale="1.0 1.0 1.0"/>
      </geometry>
    </visual>
    <inertial>
      <origin rpy="0 0 0" xyz="-0.03505 0.00125 0.0"/>
      <mass value="0.36386"/>
      <inertia ixx="0.00023646957" ixy="3.45771e-06" ixz="-1.268e-08" iyy="0.00055386457" iyz="-1.811e-08" izz="0.00043888609"/>
    </inertial>
  </link>
  <joint name="RH_hip_fixed_RH_HFE_output" type="fixed">
    <parent link="RH_hip_fixed"/>
    <child link="RH_HFE_output"/>
    <origin rpy="0 0 1.5707963267948966" xyz="-0.069 -0.006 0.0"/>
  </joint>
  <link name="RH_HFE_output">
    <inertial>
      <origin rpy="0 0 0" xyz="0 0 0"/>
      <mass value="0.001"/>
      <inertia ixx="0.000001" ixy="0.0" ixz="0.0" iyy="0.000001" iyz="0.0" izz="0.000001"/>
    </inertial>
  </link>
  <link name="RH_HFE_drive">
    <visual>
      <origin rpy="0 0 0" xyz="0 0 0"/>
      <geometry>
        <mesh filename="../meshes/drive.dae" scale="1.0 1.0 1.0"/>
      </geometry>
    </visual>
    <collision>
      <origin rpy="0 1.5707963267948966 0" xyz="-0.0595 0 0"/>
      <geometry>
        <cylinder length="0.119" radius="0.05375"/>
      </geometry>
    </collision>
    <inertial>
      <origin rpy="0 0 0" xyz="-0.05783 -0.00014 0.00036"/>
      <mass value="2.01511"/>
      <inertia ixx="0.0033251482" ixy="2.567315e-05" ixz="2.599963e-05" iyy="0.00318377804" iyz="9.462185e-05" izz="0.00355095312"/>
    </inertial>
  </link>
  <joint name="RH_HFE" type="revolute">
    <parent link="RH_HFE_output"/>
    <child link="RH_THIGH"/>
    <origin rpy="0 0 0" xyz="0 0 0"/>
    <axis xyz="1 0 0"/>
    <limit command_effort="80.0" current="32.0" effort="80.0" gear_velocity="8.5" lower="-9.42477796076938" upper="9.42477796076938" velocity="8.5"/>
    <dynamics damping="0.0" friction="0.0"/>
  </joint>
  <link name="RH_THIGH">
    <inertial>
      <origin rpy="0 0 0" xyz="0 0 0"/>
      <mass value="0.001"/>
      <inertia ixx="0.000001" ixy="0.0" ixz="0.0" iyy="0.000001" iyz="0.0" izz="0.000001"/>
    </inertial>
  </link>
  <joint name="RH_THIGH_to_RH_HFE_drive" type="fixed">
    <parent link="RH_THIGH"/>
    <child link="RH_HFE_drive"/>
    <origin rpy="0 0 0" xyz="0 0 0"/>
  </joint>
  <joint name="RH_HFE_drive_RH_thigh_fixed" type="fixed">
    <parent link="RH_HFE_drive"/>
    <child link="RH_thigh_fixed"/>
    <origin rpy="0 0 -1.5707963267948966" xyz="0 0 0"/>
  </joint>
  <link name="RH_thigh_fixed">
    <visual>
      <origin rpy="0 0 -3.141592653589793" xyz="0 0 0"/>
      <geometry>
        <mesh filename="../meshes/thigh.dae" scale="1.0 1.0 1.0"/>
      </geometry>
    </visual>
        <collision>
      <origin rpy="1.5707963267948966 0 0" xyz="0 -0.10519500000000001 0"/>
      <geometry>
        <cylinder length="0.08313000000000001" radius="0.07"/>
      </geometry>
    </collision>
    <collision>
      <origin rpy="0 0 0" xyz="0 -0.09513 -0.1425"/>
      <geometry>
        <box size="0.093 0.063 0.285"/>
      </geometry>
    </collision>
    <collision>
      <origin rpy="1.5707963267948966 0 0" xyz="0 -0.08506500000000002 -0.285"/>
      <geometry>
        <cylinder length="0.08313000000000001" radius="0.07"/>
      </geometry>
    </collision>
    <inertial>
      <origin rpy="0 0 0" xyz="0.00041 -0.09155 -0.13317"/>
      <mass value="1.10098"/>
      <inertia ixx="0.01541669135" ixy="0.00021116021" ixz="-0.00031942961" iyy="0.01630081575" iyz="-0.00143783119" izz="0.00258410631"/>
    </inertial>
  </link>
  <joint name="RH_thigh_fixed_RH_KFE_drive" type="fixed">
    <parent link="RH_thigh_fixed"/>
    <child link="RH_KFE_drive"/>
    <origin rpy="0 0 -1.5707963267948966" xyz="-0.0 -0.1805 -0.285"/>
  </joint>
  <link name="RH_KFE_drive">
    <visual>
      <origin rpy="0 0 0" xyz="0 0 0"/>
      <geometry>
        <mesh filename="../meshes/drive.dae" scale="1.0 1.0 1.0"/>
      </geometry>
    </visual>
    <collision>
      <origin rpy="0 1.5707963267948966 0" xyz="-0.0595 0 0"/>
      <geometry>
        <cylinder length="0.119" radius="0.05375"/>
      </geometry>
    </collision>
    <inertial>
      <origin rpy="0 0 0" xyz="-0.05783 -0.00014 0.00036"/>
      <mass value="2.01511"/>
      <inertia ixx="0.0033251482" ixy="2.567315e-05" ixz="2.599963e-05" iyy="0.00318377804" iyz="9.462185e-05" izz="0.00355095312"/>
    </inertial>
  </link>
  <joint name="RH_KFE" type="revolute">
    <parent link="RH_KFE_drive"/>
    <child link="RH_SHANK"/>
    <origin rpy="0 0 0" xyz="0 0 0"/>
    <axis xyz="-1 0 0"/>
    <limit command_effort="80.0" current="32.0" effort="80.0" gear_velocity="8.5" lower="-9.42477796076938" upper="9.42477796076938" velocity="8.5"/>
    <dynamics damping="0.0" friction="0.0"/>
  </joint>
  <link name="RH_SHANK">
    <inertial>
      <origin rpy="0 0 0" xyz="0 0 0"/>
      <mass value="0.001"/>
      <inertia ixx="0.000001" ixy="0.0" ixz="0.0" iyy="0.000001" iyz="0.0" izz="0.000001"/>
    </inertial>
  </link>
  <joint name="RH_shank_RH_shank_fixed" type="fixed">
    <parent link="RH_SHANK"/>
    <child link="RH_shank_fixed"/>
    <origin rpy="0 0 1.5707963267948966" xyz="0 0 0"/>
  </joint>
  <link name="RH_shank_fixed">
    <visual>
      <origin rpy="0 0 -3.141592653589793" xyz="0 0 0"/>
      <geometry>
        <mesh filename="../meshes/shank_l.dae" scale="1.0 1.0 1.0"/>
      </geometry>
    </visual>
        <collision>
      <origin rpy="1.5707963267948966 0 0" xyz="0 0 0"/>
      <geometry>
        <cylinder length="0.05732" radius="0.071"/>
      </geometry>
    </collision>
    <collision>
      <origin rpy="1.5707963267948966 0 0" xyz="-0.066415 0 0"/>
      <geometry>
        <box size="0.13283 0.08302 0.05732"/>
      </geometry>
    </collision>
    <inertial>
      <origin rpy="0 0 0" xyz="-0.02186 -0.00895 0.00042"/>
      <mass value="0.49854"/>
      <inertia ixx="0.00054939614" ixy="2.147115e-05" ixz="-1.687902e-05" iyy="0.00166971314" iyz="-1.71584e-06" izz="0.00127258622"/>
    </inertial>
  </link>
  <joint name="RH_shank_fixed_RH_FOOT" type="fixed" dont_collapse="true">
    <parent link="RH_shank_fixed"/>
    <child link="RH_FOOT"/>
    <origin rpy="0 0 0" xyz="-0.1 -0.02225 -0.39246"/>
  </joint>
  <link name="RH_FOOT">
    <visual>
      <origin rpy="0 0 -3.141592653589793" xyz="0 0 0"/>
      <geometry>
        <mesh filename="../meshes/foot.dae" scale="1.0 1.0 1.0"/>
      </geometry>
    </visual>
        <collision>
      <origin rpy="0 0 0" xyz="0 0.016891153063699788 0.22824319686592265"/>
      <geometry>
        <cylinder length="0.39572" radius="0.0175"/>
      </geometry>
    </collision>
        <collision>
      <origin xyz="0 0.008141153063699788 0.03038319686592264"/>
      <geometry>
        <sphere radius="0.031455"/>
      </geometry>
    </collision>
    <inertial>
      <origin rpy="0 0 0" xyz="-0.0 0.01559 0.15004"/>
      <mass value="0.29644"/>
      <inertia ixx="0.00514263169" ixy="1.46e-09" ixz="-6.85e-09" iyy="0.0051315957" iyz="-0.00016323086" izz="0.00011890148"/>
    </inertial>
  </link>
</robot>
